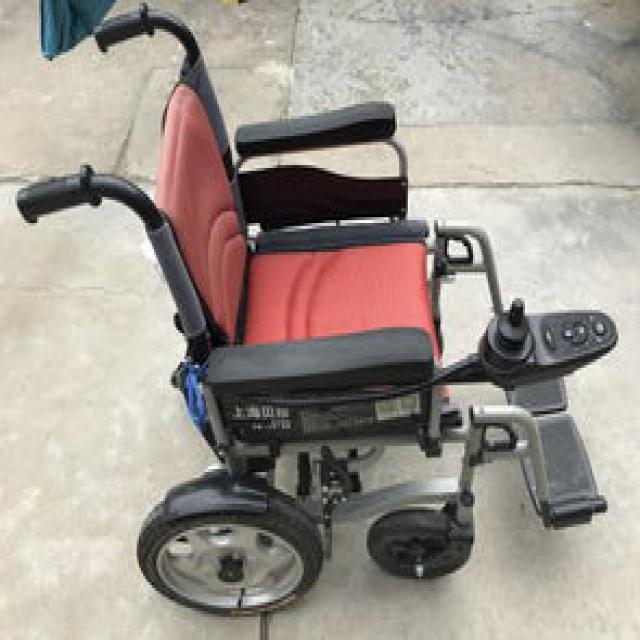wheelchairs: (8, 3, 614, 620)
